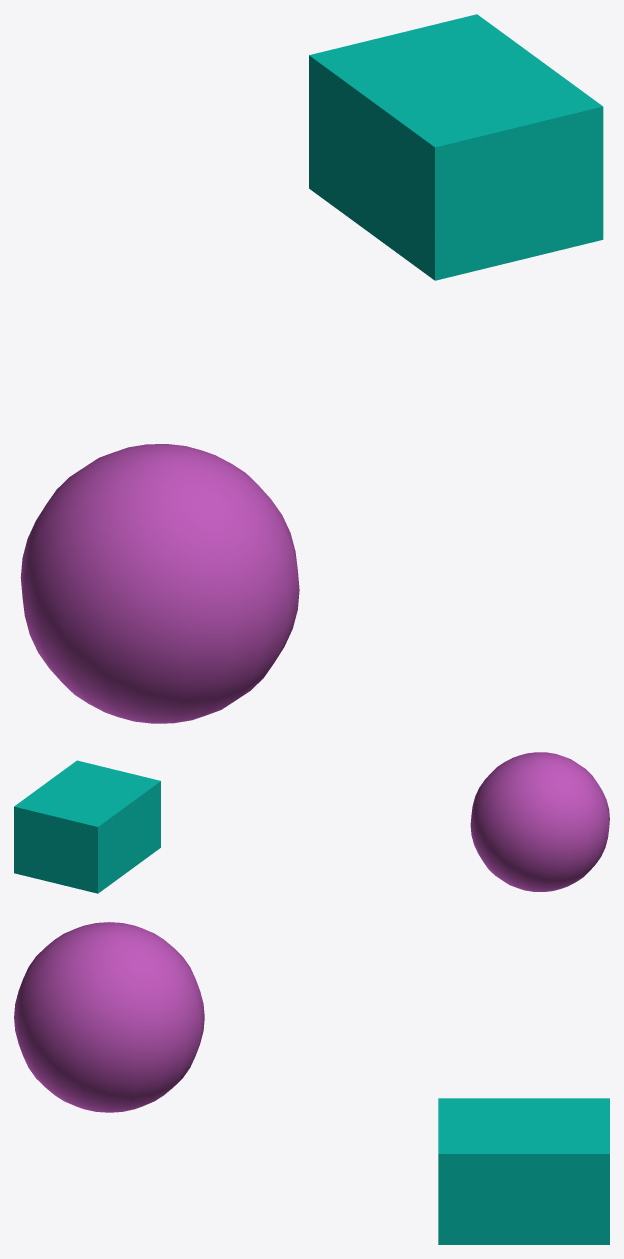
Rendered from fbxexporttestspherecube3blender1.fbx.
The picture shows the model from 3 angles, top to bottom: view 1: azimuth 30°, elevation 25°; view 2: azimuth 150°, elevation 25°; view 3: azimuth 270°, elevation 25°; orthographic projection. The views are drawn at different scales.
Parts seen in each view (by area): view 1: pSphere1, pCube1; view 2: pSphere1, pCube1; view 3: pSphere1, pCube1.
Boxes of the visible parts, x1,y1,x2,y2 form: pSphere1: [20, 444, 299, 723]; pCube1: [309, 14, 603, 280]; pSphere1: [470, 752, 609, 891]; pCube1: [14, 760, 160, 893]; pSphere1: [14, 922, 204, 1112]; pCube1: [438, 1098, 609, 1244].
Bounding box in the file's own units: 28.96 × 8.94 × 27.24.
